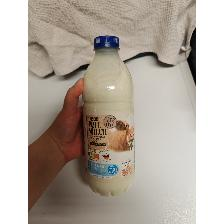Milch: (82, 35, 136, 197)
